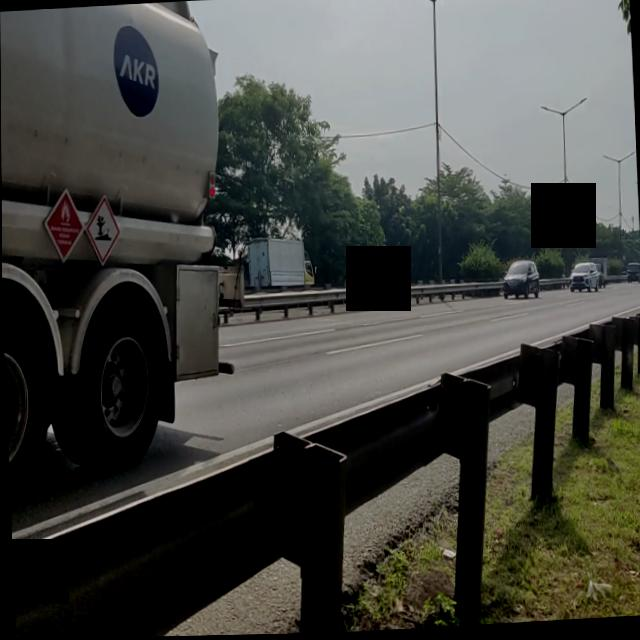Golongan I: (498, 252, 544, 308)
